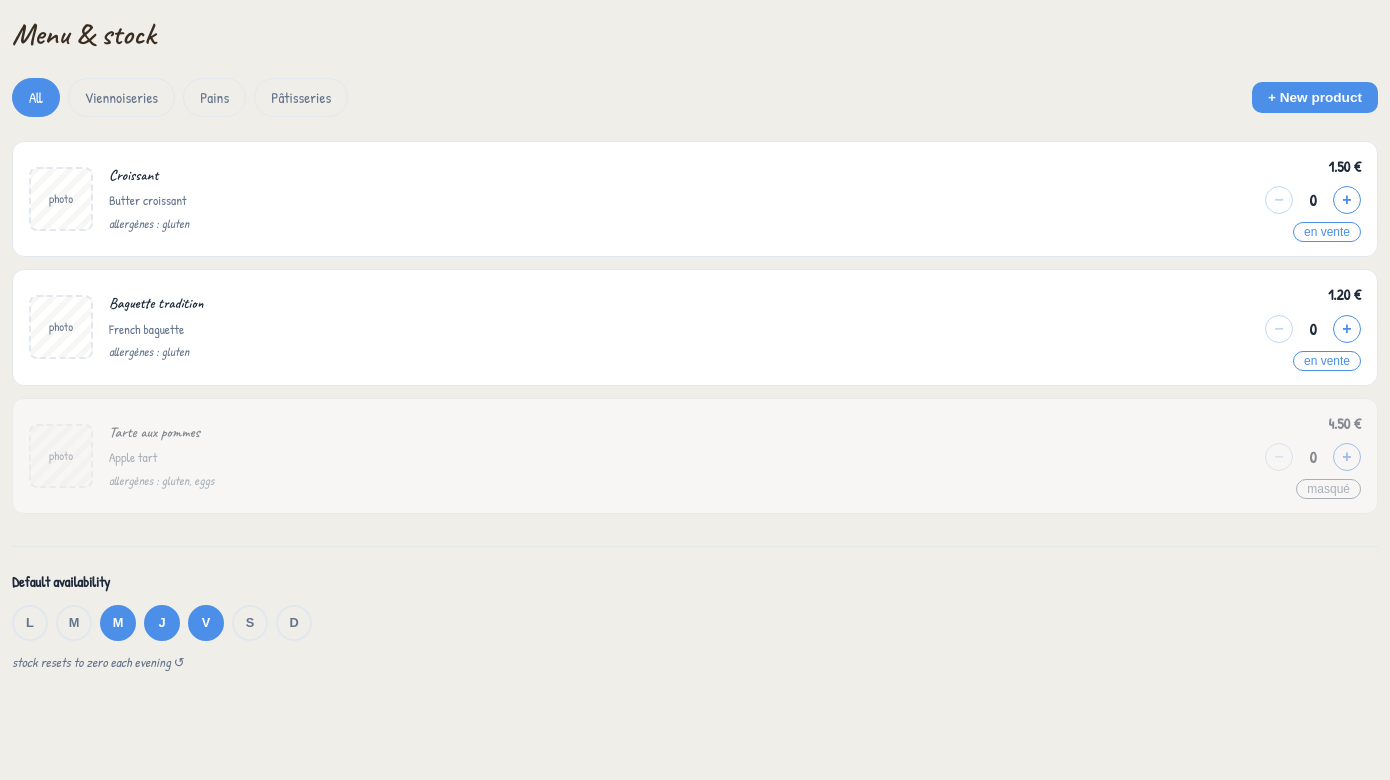
DashboardProducts › category filter shows only matching products
Check: the heading "Croissant" is shown, box top-left (109, 166), bottom-right (158, 185)
// Click the "Pains" category filter
Click the radio button "Pains" at (215, 97), box top-left (183, 78), bottom-right (246, 117)
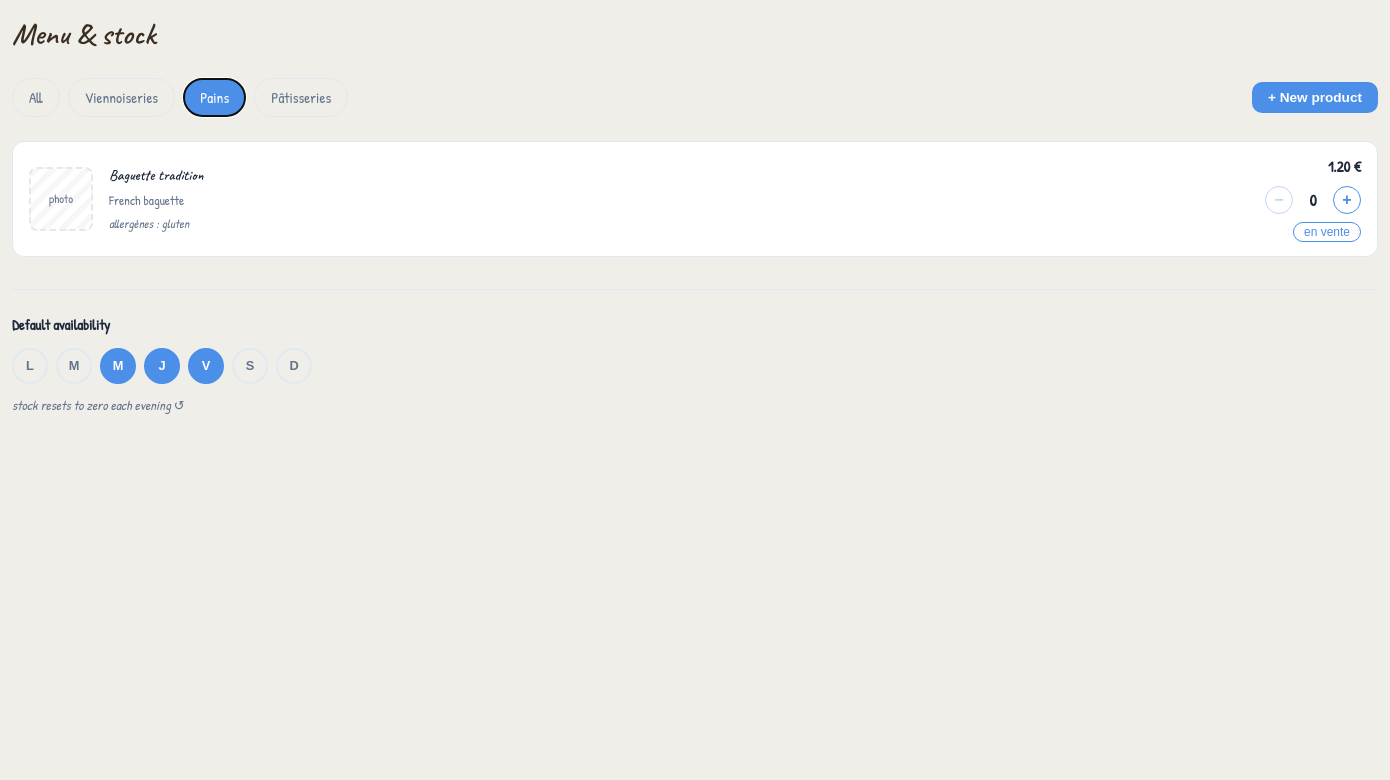
Check: the heading "Baguette tradition" is shown, box top-left (109, 166), bottom-right (204, 185)
Check: the heading "Croissant" is gone
Check: the heading "Tarte aux pommes" is gone
